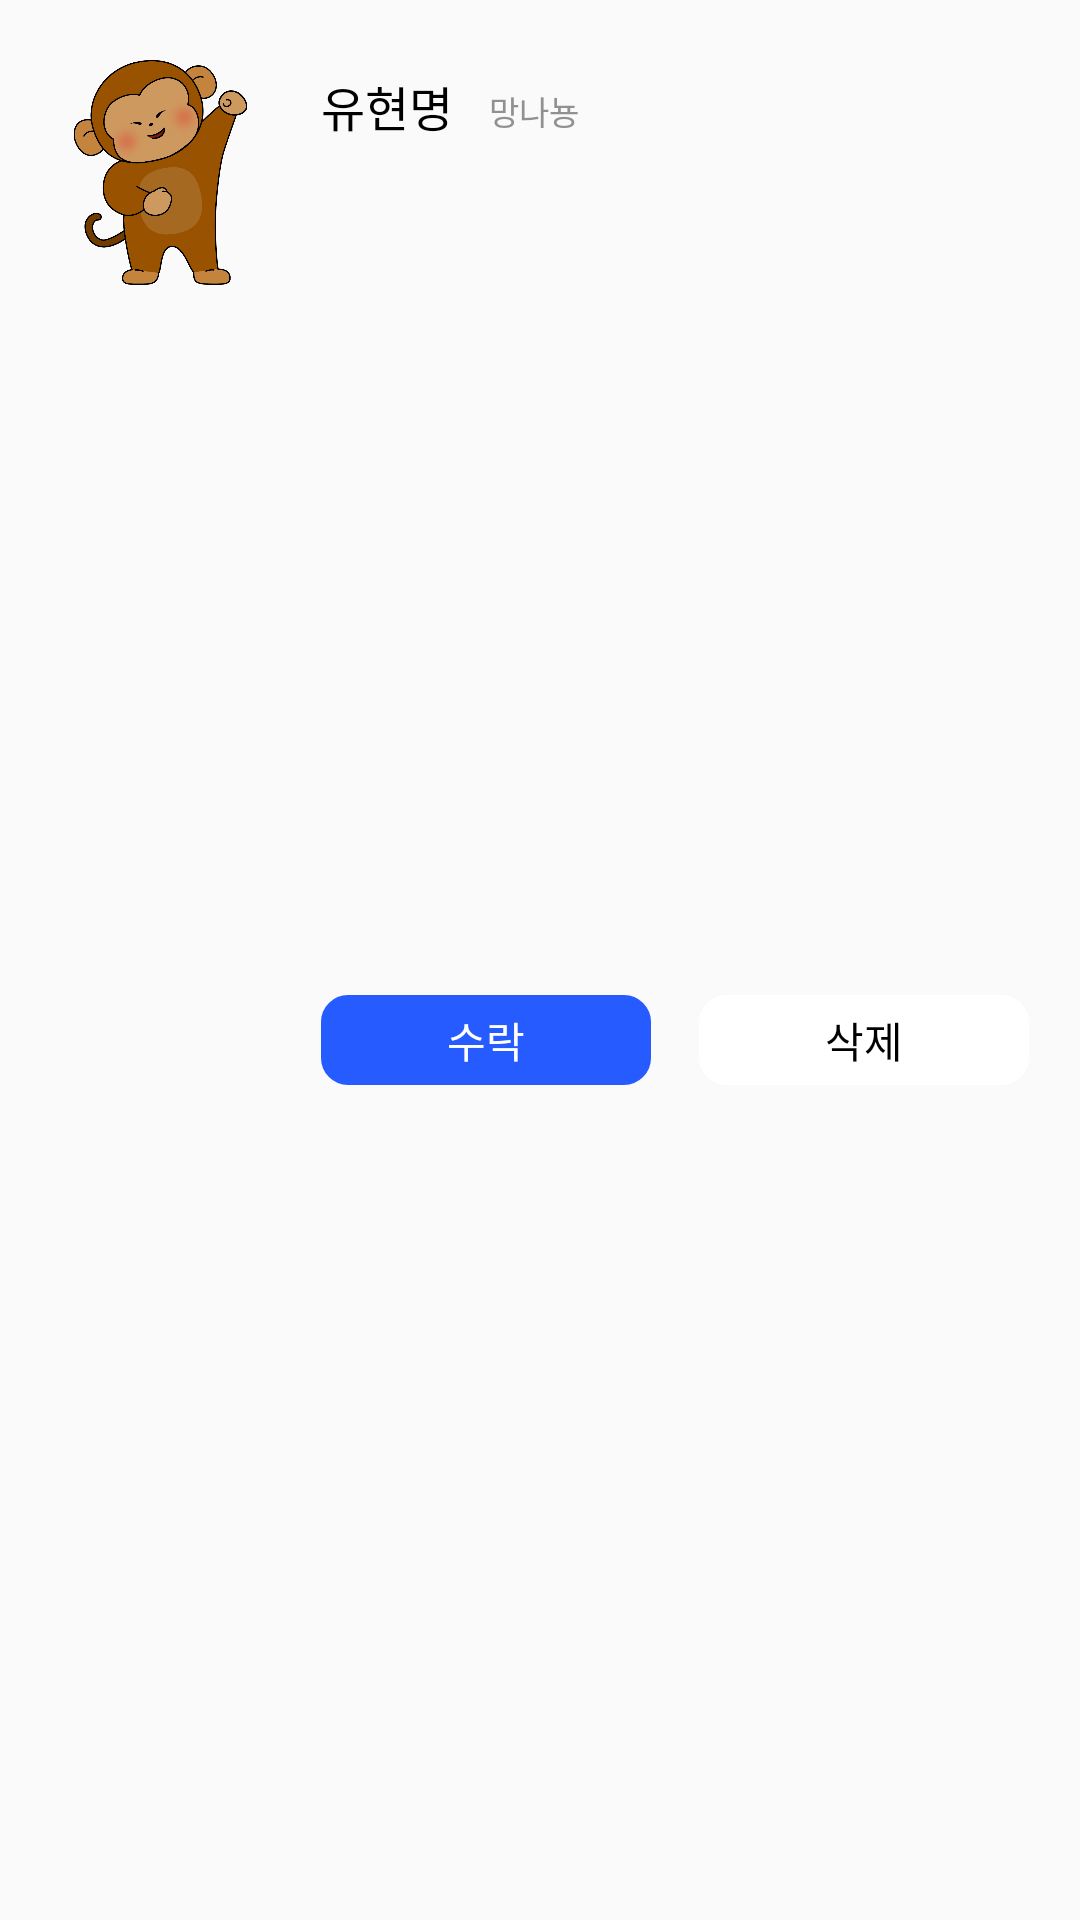

Locate icon controls on the screen. Image size 1080x1920, boxes as (x1, y1, x2, y2).
happysmonkey: (74, 60, 247, 285)
